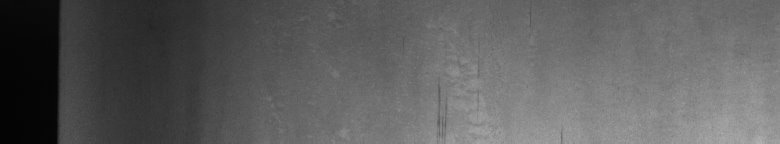ka: (436, 86, 485, 136)
